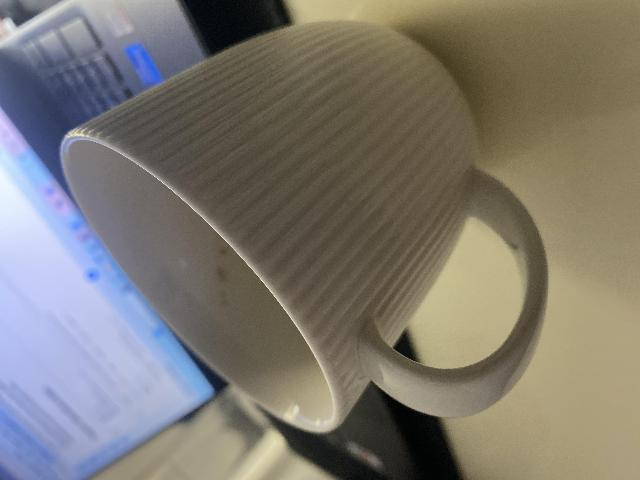Cam: (57, 19, 542, 437)
